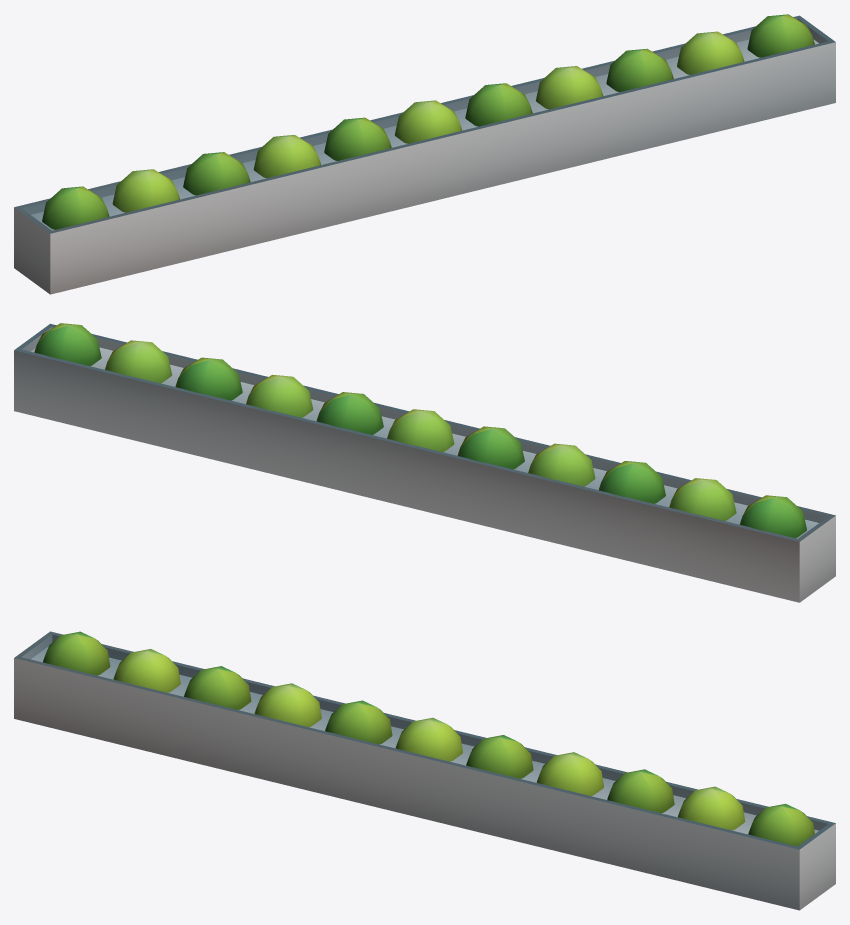
Rendered from RB_T04_Planter_01.fbx.
The picture shows the model from 3 angles, top to bottom: view 1: azimuth 30°, elevation 25°; view 2: azimuth 150°, elevation 25°; view 3: azimuth 330°, elevation 25°; orthographic projection.
Parts seen in each view (by area): view 1: RB_T04_Planter_01; view 2: RB_T04_Planter_01; view 3: RB_T04_Planter_01.
Part boxes in pixels (x1=…): RB_T04_Planter_01: x1=14, y1=14, x2=835, y2=294; RB_T04_Planter_01: x1=14, y1=323, x2=835, y2=602; RB_T04_Planter_01: x1=14, y1=631, x2=835, y2=910.
Bounding box in the file's own units: 2.92 × 0.2897 × 0.2338.
